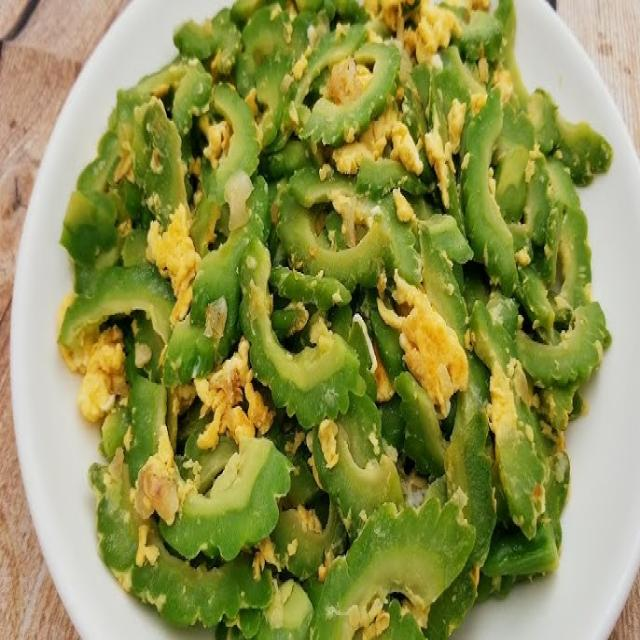kho qua: (57, 0, 611, 638)
